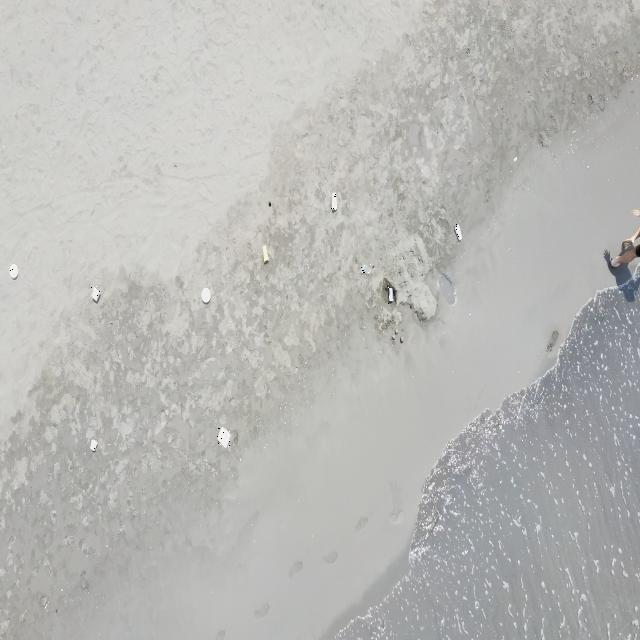take-away-containers: (217, 428, 230, 450), (201, 287, 212, 303), (91, 286, 100, 302), (89, 438, 98, 453), (10, 264, 18, 278)
takeaway-cup: (262, 244, 270, 266), (454, 223, 462, 242), (387, 286, 395, 304), (361, 264, 371, 275), (331, 192, 336, 212)
